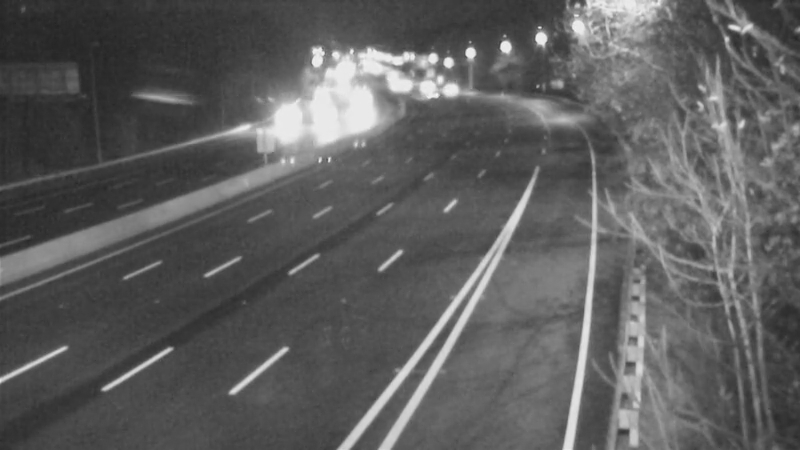vehicle: (405, 68, 455, 118), (258, 94, 308, 144)
